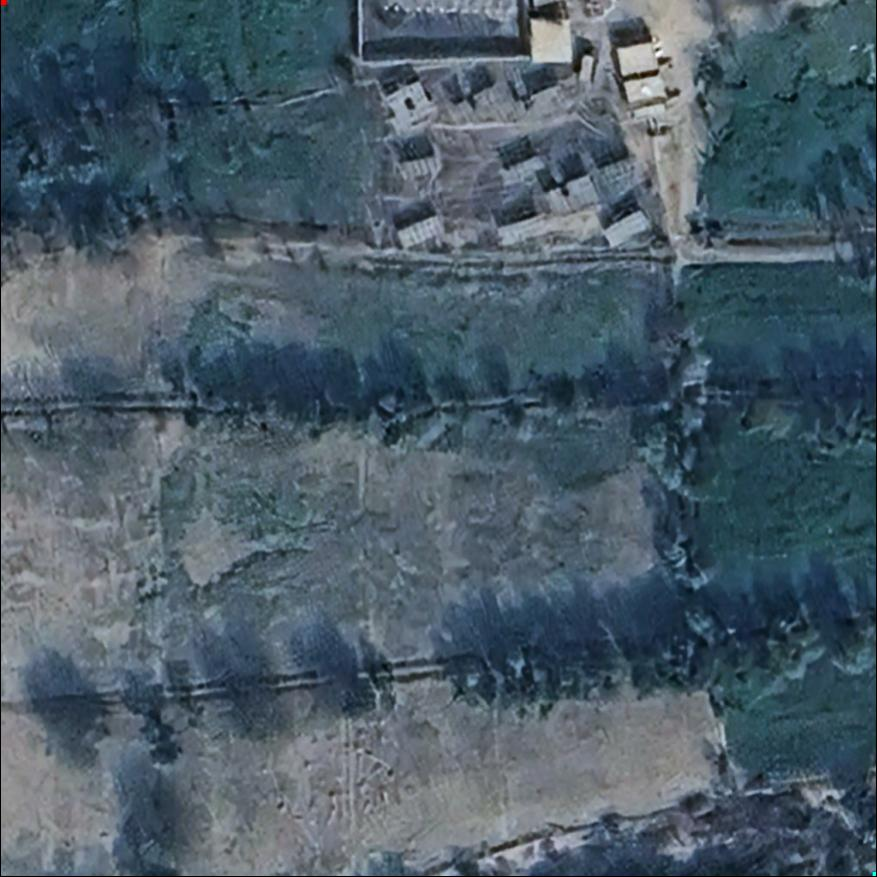Solarpanel: (379, 77, 439, 133), (540, 173, 602, 224), (598, 206, 654, 251), (390, 212, 447, 254), (494, 211, 553, 251), (495, 154, 549, 189), (394, 153, 443, 184)
